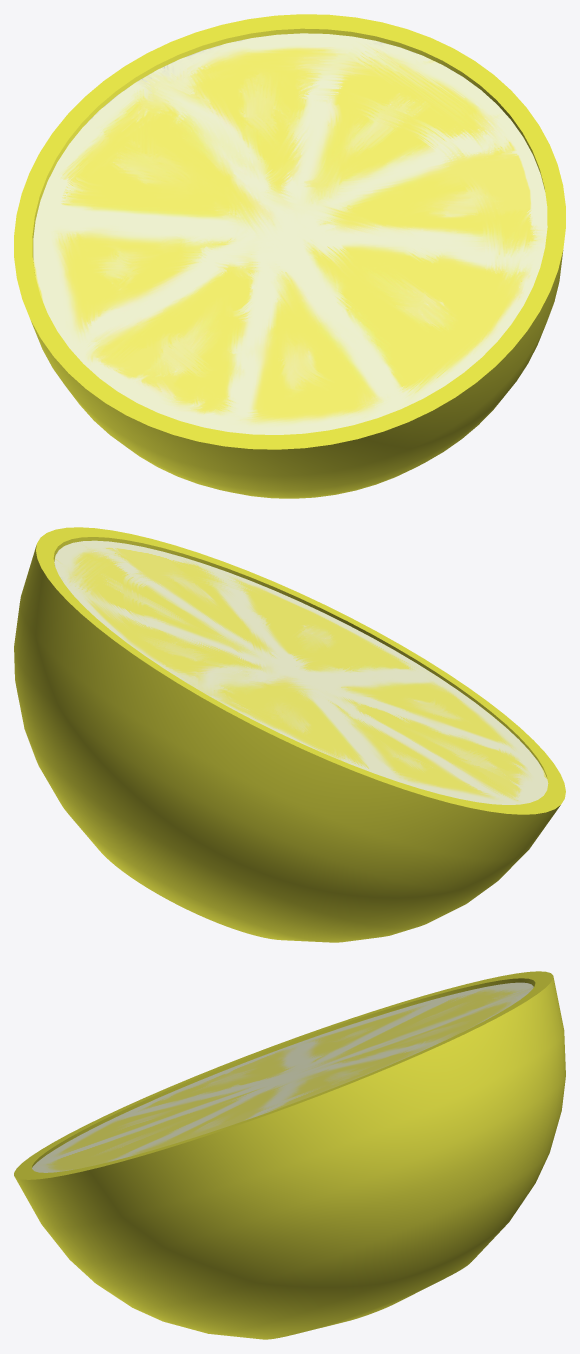
File: yarım limon.fbx
3 views of the same model, one above another, from view 1: azimuth 30°, elevation 25°; view 2: azimuth 150°, elevation 25°; view 3: azimuth 270°, elevation 25° (orthographic). The views are drawn at different scales.
Visible parts, largest first — view 1: Cylinder.009; view 2: Cylinder.009; view 3: Cylinder.009.
Part boxes in pixels (box(x1,y1,x2,y2)): Cylinder.009: box(14, 14, 565, 498); Cylinder.009: box(14, 527, 565, 942); Cylinder.009: box(14, 971, 565, 1339).
Bounding box in the file's own units: 30.43 × 21.59 × 30.14.
Materials: 2 (1 with a texture image).
